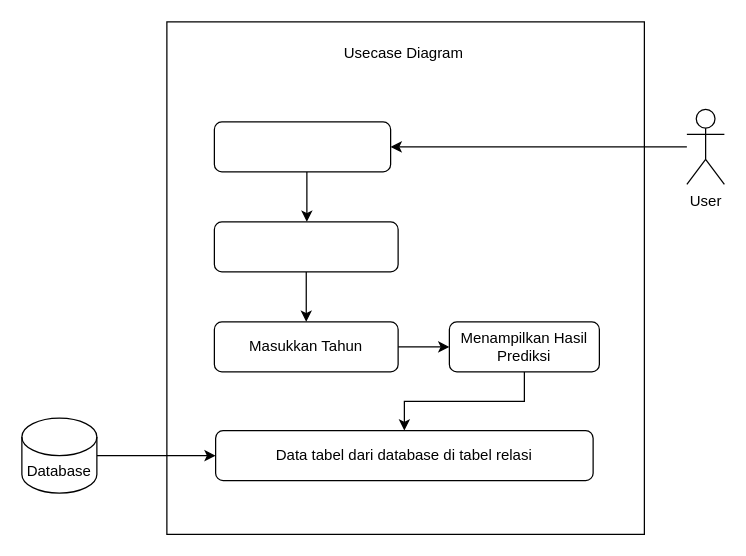
This 746x556 diagram has some shape labels left out. The box of each missing label's shape, as (x1, y1, x2, y2) in pixels:
User membuka web uas_datawarehouse: (213, 121, 391, 172)
Web menampilkan halaman: (213, 221, 398, 272)
